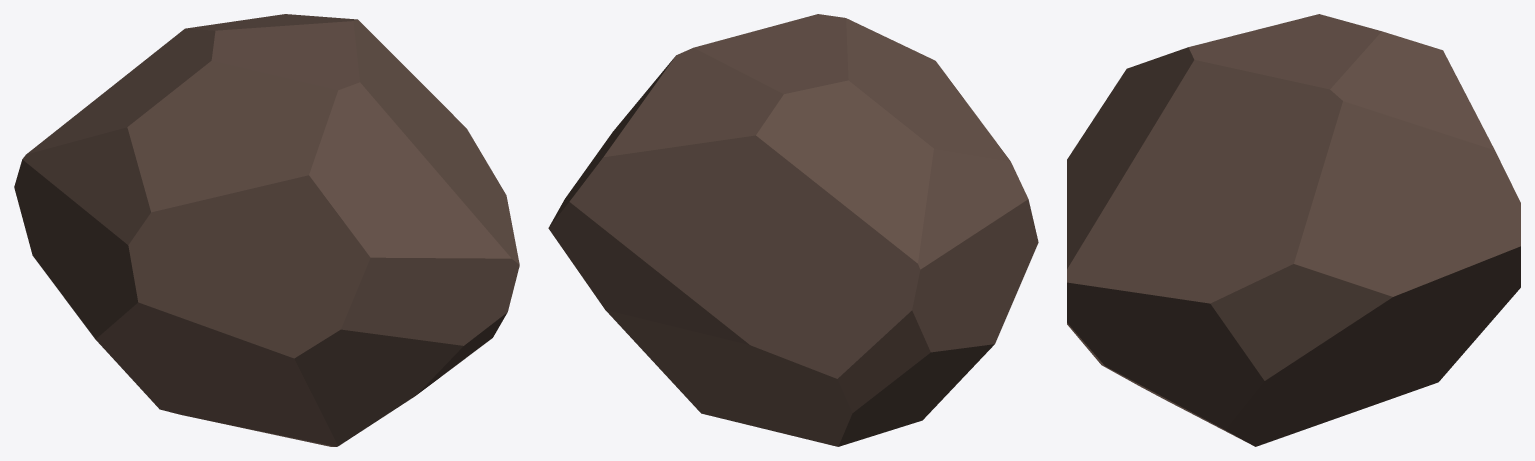
File: island_rock_3.fbx
3 views of the same model, side by side, from view 1: azimuth 30°, elevation 25°; view 2: azimuth 150°, elevation 25°; view 3: azimuth 270°, elevation 25° (orthographic). The views are drawn at different scales.
Visible parts, largest first — view 1: Cube.032; view 2: Cube.032; view 3: Cube.032.
Boxes of the visible parts, x1=… form: Cube.032: x1=14, y1=14, x2=519, y2=446; Cube.032: x1=548, y1=14, x2=1038, y2=446; Cube.032: x1=1067, y1=14, x2=1520, y2=446.
Size of the model in its own units: 2 by 1.76 by 2.
